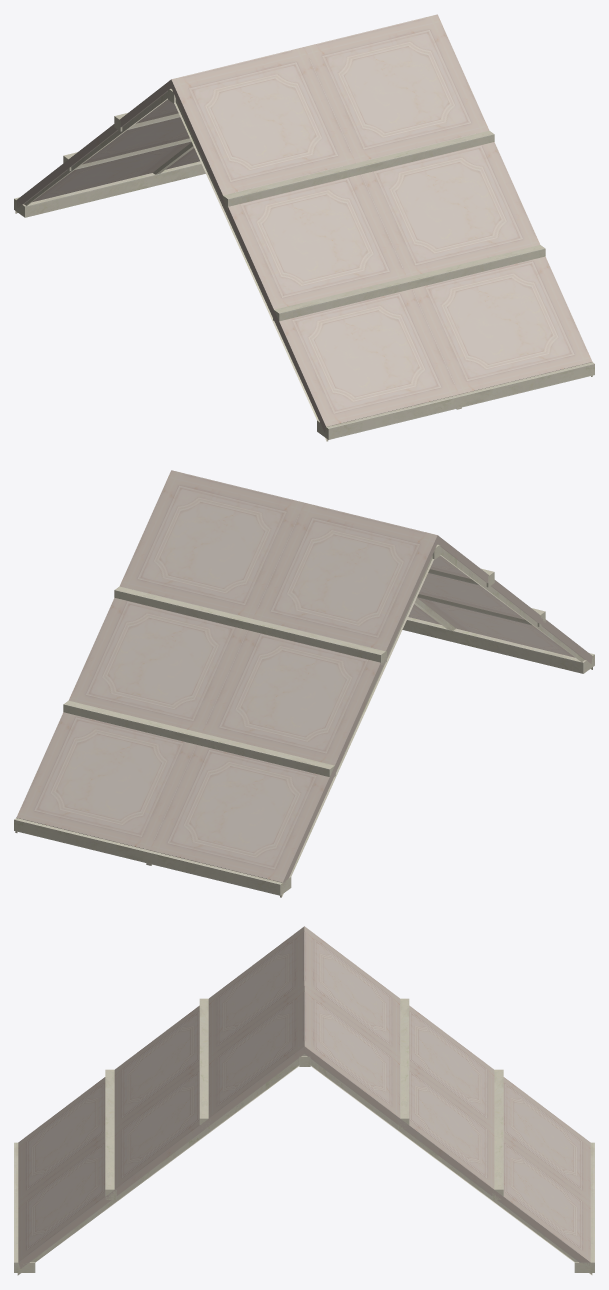
Rendered from Homeworld_Interior_Fd_Room_Ceiling_02_Vo.fbx.
The picture shows the model from 3 angles, top to bottom: view 1: azimuth 30°, elevation 25°; view 2: azimuth 150°, elevation 25°; view 3: azimuth 270°, elevation 25°; orthographic projection. The views are drawn at different scales.
Parts seen in each view (by area): view 1: Homeworld_Interior_Fd_Room_Ceiling_02_Vo; view 2: Homeworld_Interior_Fd_Room_Ceiling_02_Vo; view 3: Homeworld_Interior_Fd_Room_Ceiling_02_Vo.
Part boxes in pixels (x1,y1,x2,y2): Homeworld_Interior_Fd_Room_Ceiling_02_Vo: [14, 14, 594, 441]; Homeworld_Interior_Fd_Room_Ceiling_02_Vo: [14, 470, 594, 897]; Homeworld_Interior_Fd_Room_Ceiling_02_Vo: [14, 926, 594, 1275].
Size of the model in its own units: 5 by 4.46 by 10.23.
